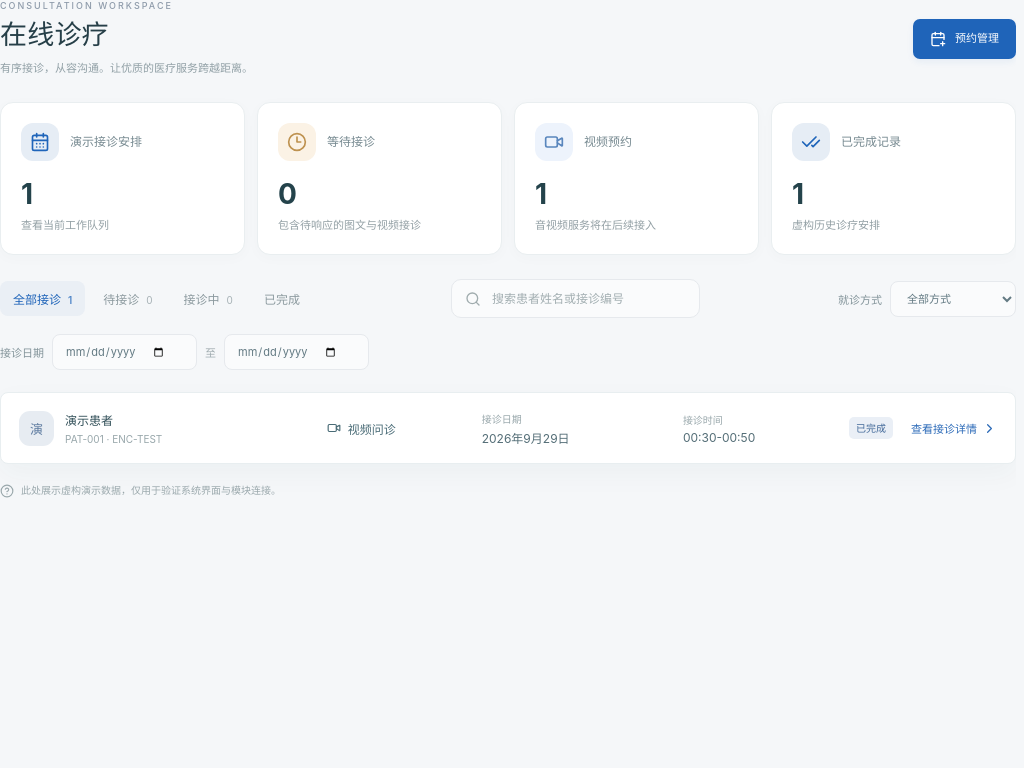
a completed visit without a persisted record has no fabricated export fallback
What coordinates should you click on to do the following:
click the button "查看接诊详情"
I would click on:
 (954, 428)
Its box is [911,415,997,441].
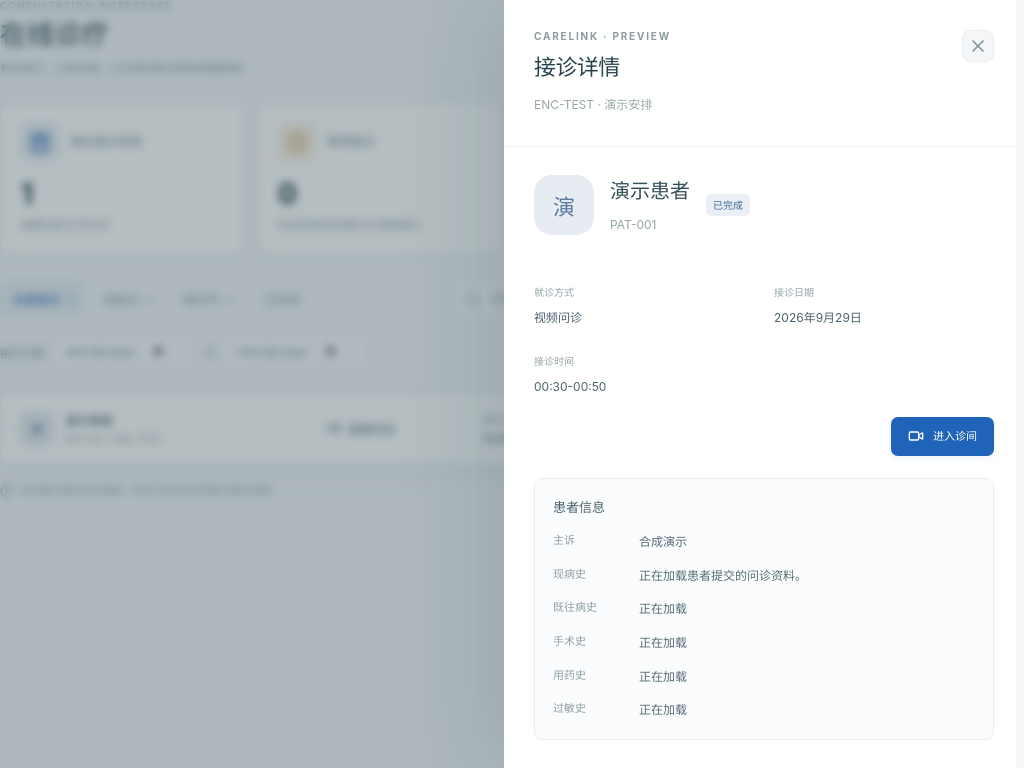
What coordinates should you click on to do the following:
click the button "进入诊间"
I would click on:
 (942, 436)
Its box is [891,417,994,456].
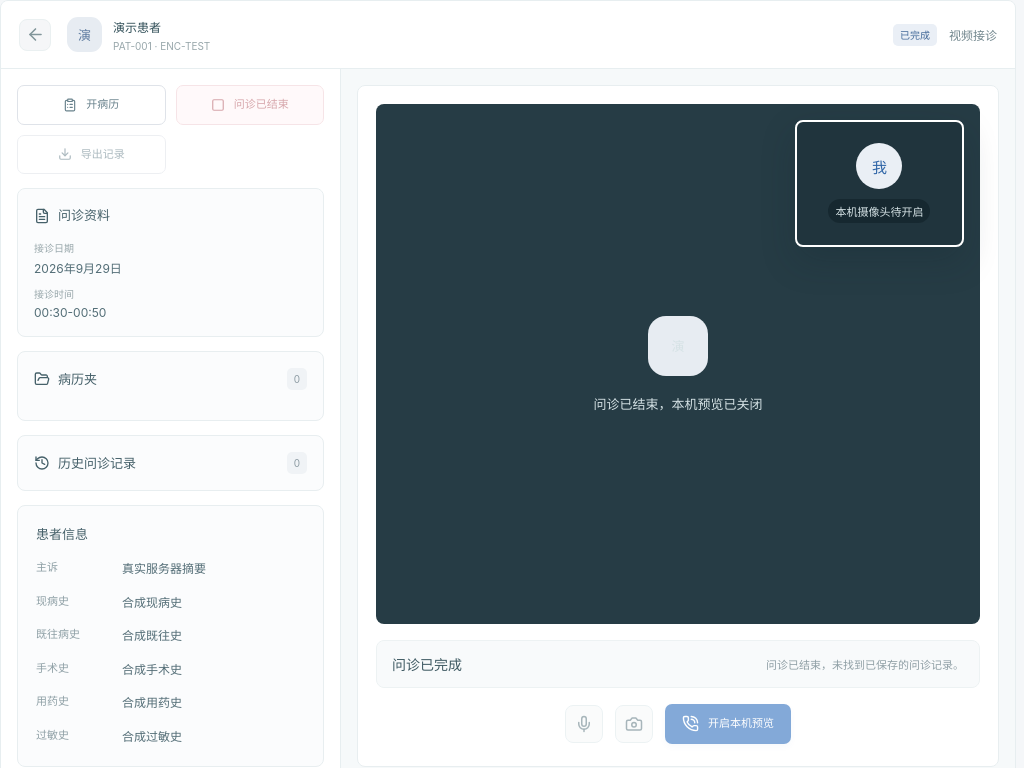
expect the button named "返回接诊列表" is shown: met, box [19,18,51,50]
expect the text "真实服务器摘要" is shown: met, box [122,561,206,576]
expect the button "导出记录" is disabled: met, box [17,135,166,174]
